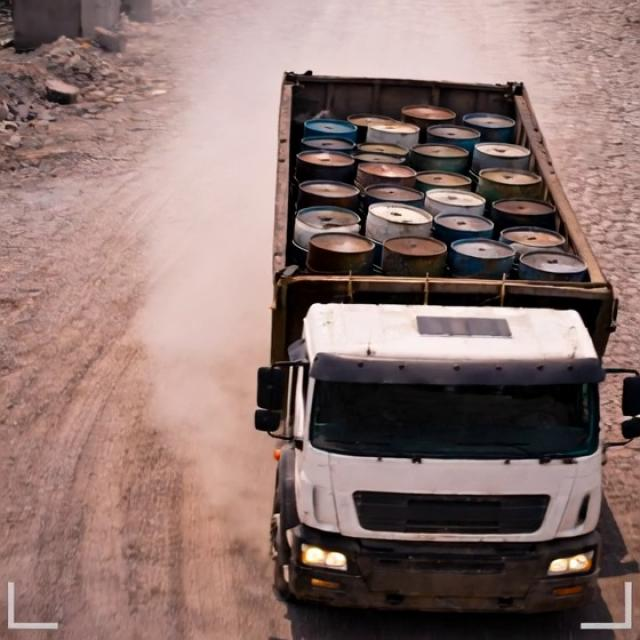Box: (257, 67, 619, 300)
Truck: (213, 36, 626, 617)
